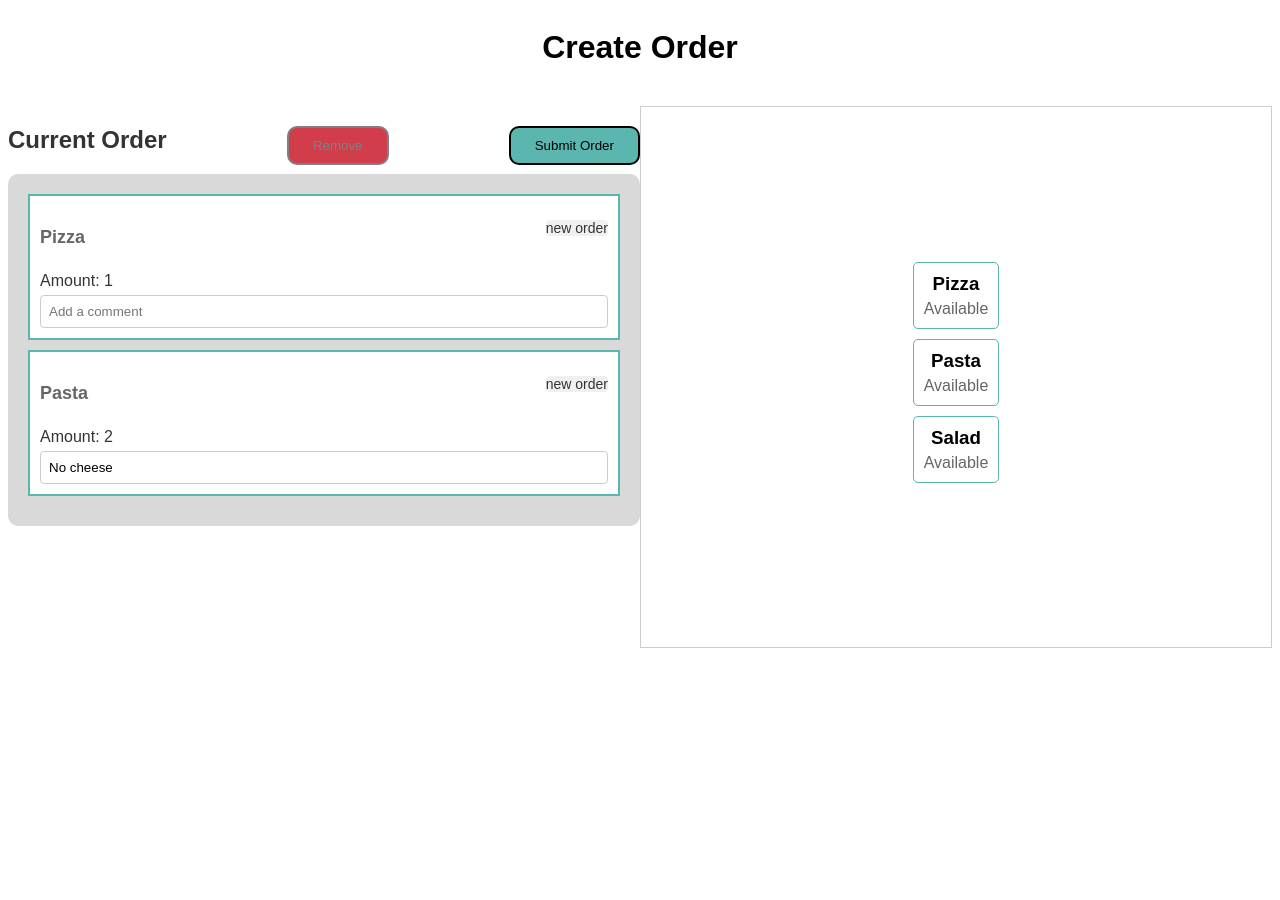
it: CreateOrder Component › submits the order
The image size is (1280, 900).
Click the button "Submit Order": [574, 145] box left=509, top=126, right=640, bottom=165
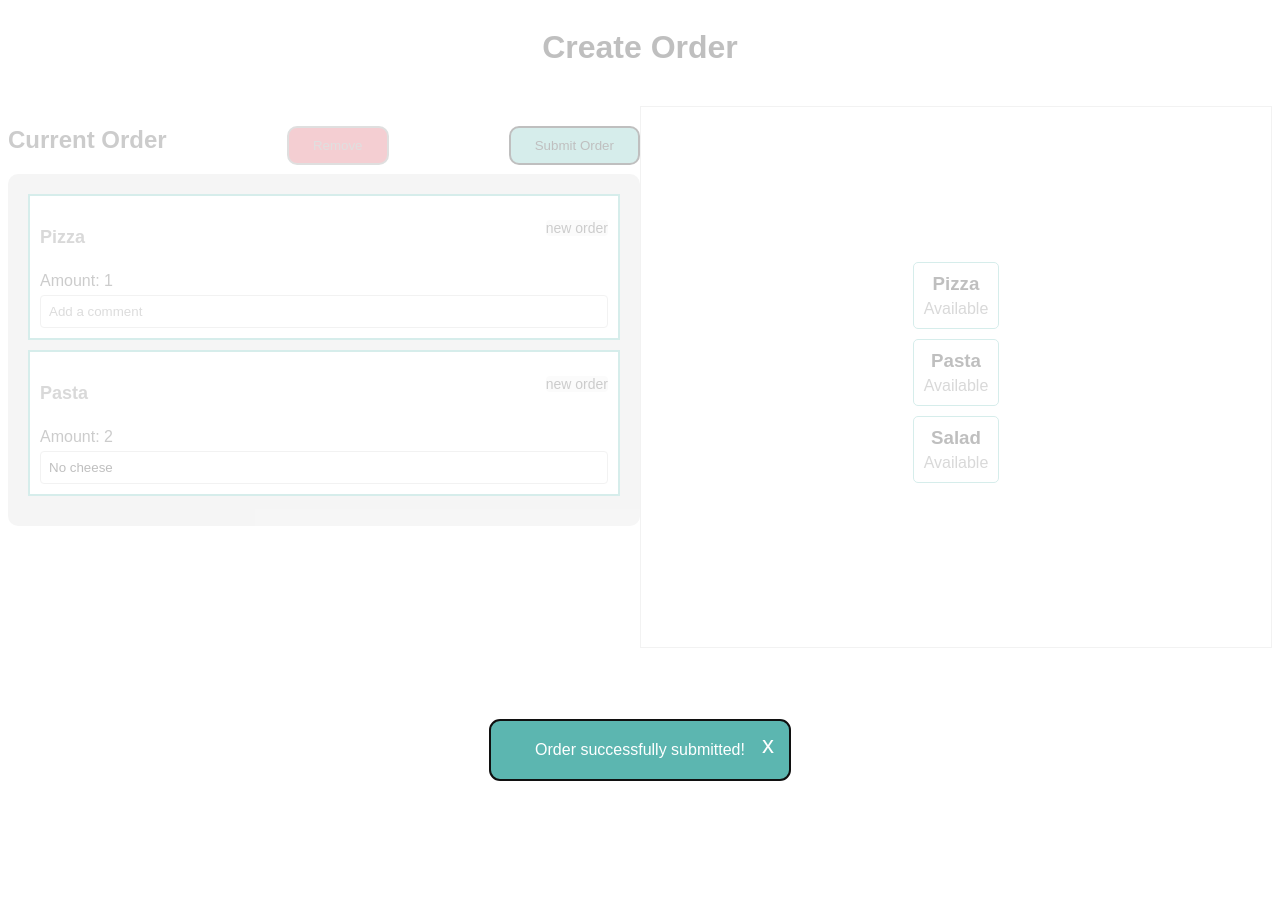
Now the text "Order successfully submitted!" is shown, box left=535, top=741, right=745, bottom=758
